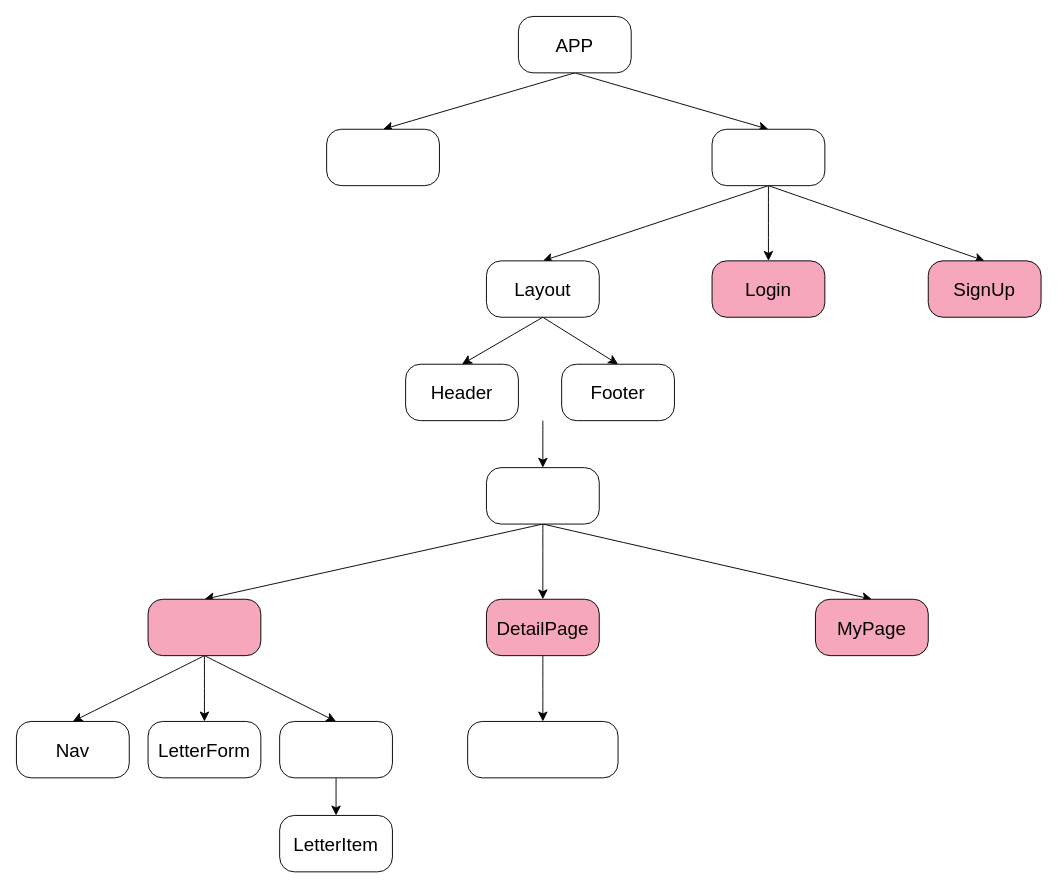
Some shapes in this 1058 by 888 pixel diagram are drawn without their labels. Here are the shapes that lost their labels. From the top down, the box of each, then its label:
(326, 128, 439, 186): GlobalStyle
(711, 128, 825, 186): Router
(486, 467, 599, 524): Route
(147, 598, 261, 656): MainPage
(279, 721, 392, 778): LetterList
(467, 721, 618, 778): MemberLetters
